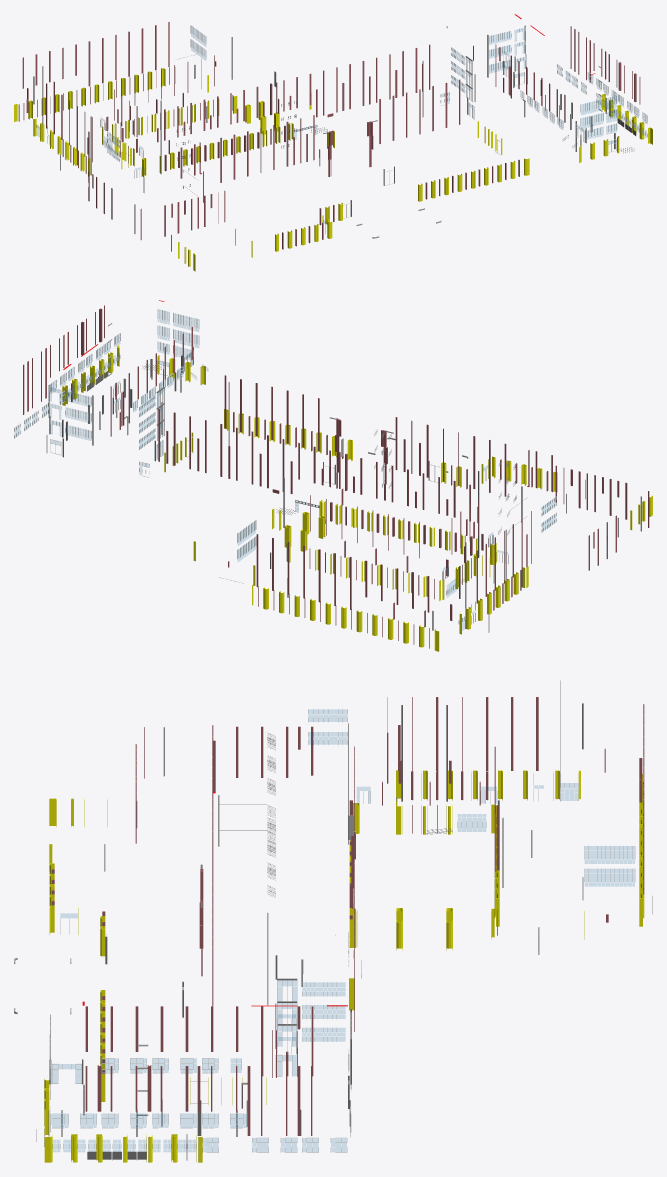
File: teaching-building_13.gltf
3 views of the same model, one above another, from view 1: azimuth 30°, elevation 25°; view 2: azimuth 150°, elevation 25°; view 3: azimuth 270°, elevation 25° (orthographic). The views are drawn at different scales.
Bounding box in the file's own units: 153 × 30 × 107.
